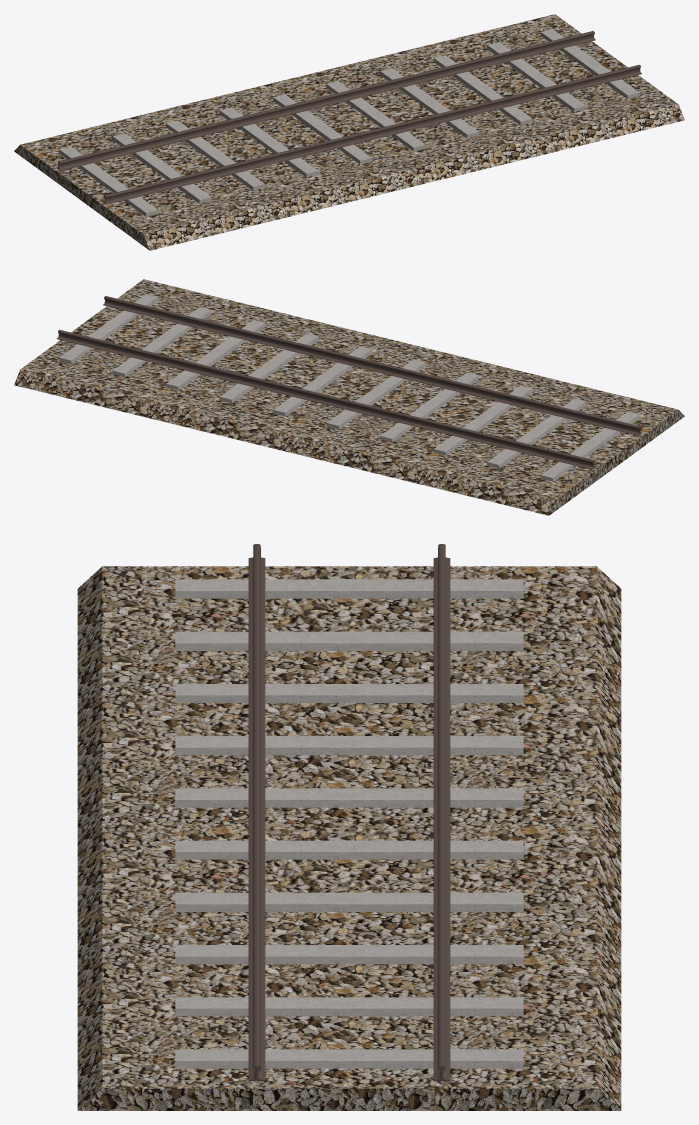
The model's file is sweethome3d-scopia-railroad-10m.glb.
3 views of the same model, one above another, from view 1: azimuth 30°, elevation 25°; view 2: azimuth 150°, elevation 25°; view 3: azimuth 270°, elevation 25° (orthographic). The views are drawn at different scales.
Visible parts, largest first — view 1: ballastDroit_Plane, traverse_Cube, droit_BezierCurve; view 2: ballastDroit_Plane, traverse_Cube, droit_BezierCurve; view 3: ballastDroit_Plane, traverse_Cube, droit_BezierCurve.
Part boxes in pixels (x1,y1,x2,y2): ballastDroit_Plane: (14,14,684,250); traverse_Cube: (59,29,639,216); droit_BezierCurve: (56,31,641,204); ballastDroit_Plane: (14,279,684,515); traverse_Cube: (59,294,639,481); droit_BezierCurve: (57,296,642,469); ballastDroit_Plane: (77,566,621,1110); traverse_Cube: (175,579,523,1068); droit_BezierCurve: (248,544,450,1081).
Bounding box in the file's own units: 1000 × 39.86 × 440.
3 materials, 2 textured.
